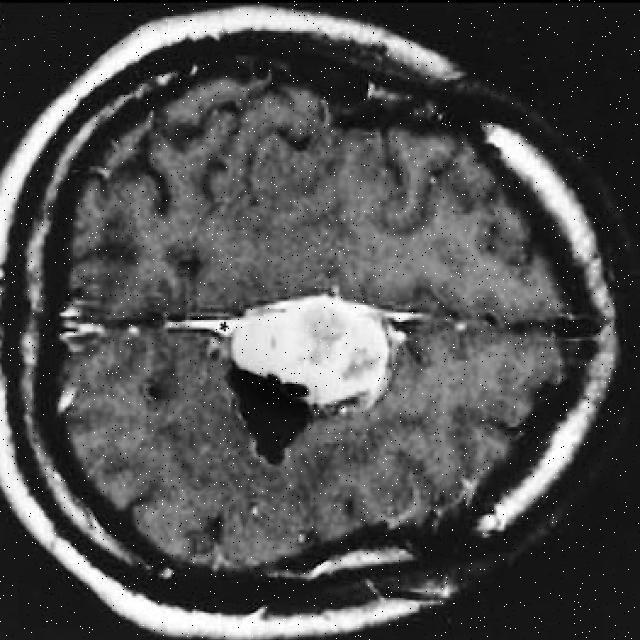Meningioma: (166, 295, 425, 408)
